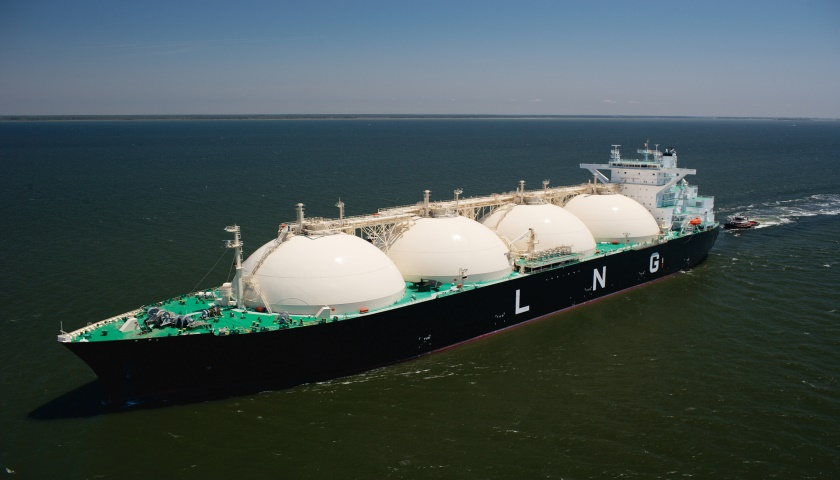Cargoship: (48, 141, 716, 386)
otherboat: (722, 208, 762, 230)
